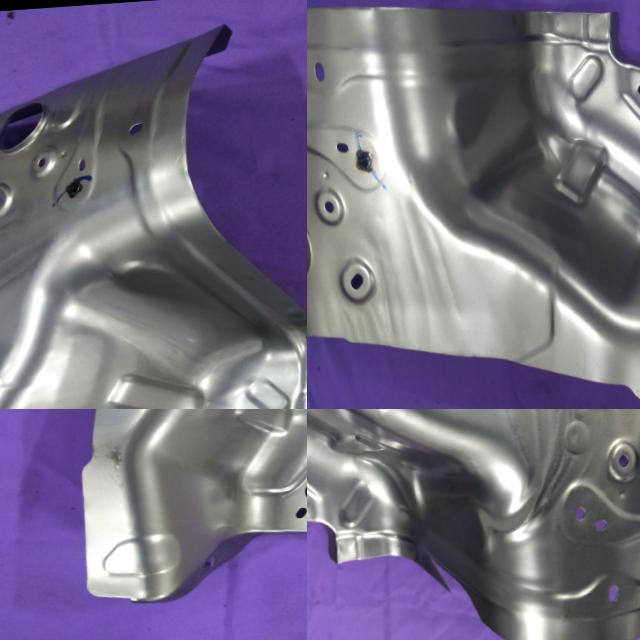Defect: (386, 546, 496, 622)
Healthy: (307, 0, 640, 409), (0, 17, 307, 409), (52, 409, 307, 610)
